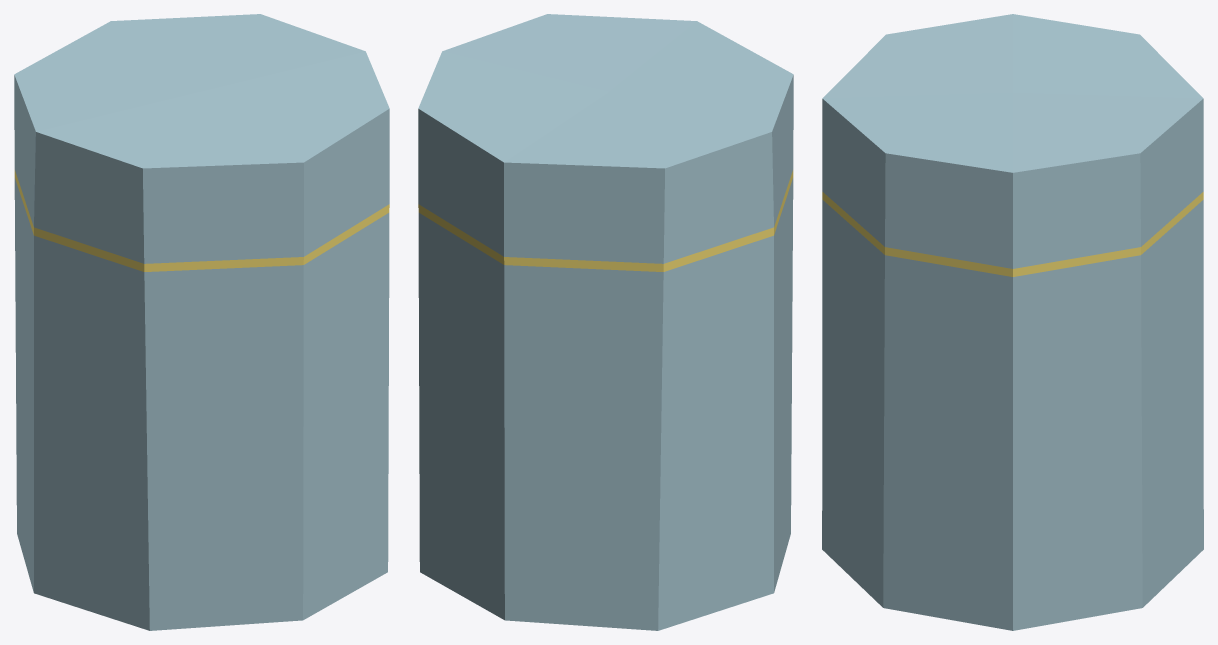
Rendered from Bathroom_Trashcan.fbx.
3 renders of one model, left to right at view 1: azimuth 30°, elevation 25°; view 2: azimuth 150°, elevation 25°; view 3: azimuth 270°, elevation 25°, orthographic.
Visible parts, largest first — view 1: Bathroom_Trashcan; view 2: Bathroom_Trashcan; view 3: Bathroom_Trashcan.
Boxes of the visible parts, x1,y1,x2,y2 form: Bathroom_Trashcan: (14,14,389,630); Bathroom_Trashcan: (418,14,793,630); Bathroom_Trashcan: (822,14,1203,630).
Bounding box in the file's own units: 37.88 × 49.73 × 37.72.
